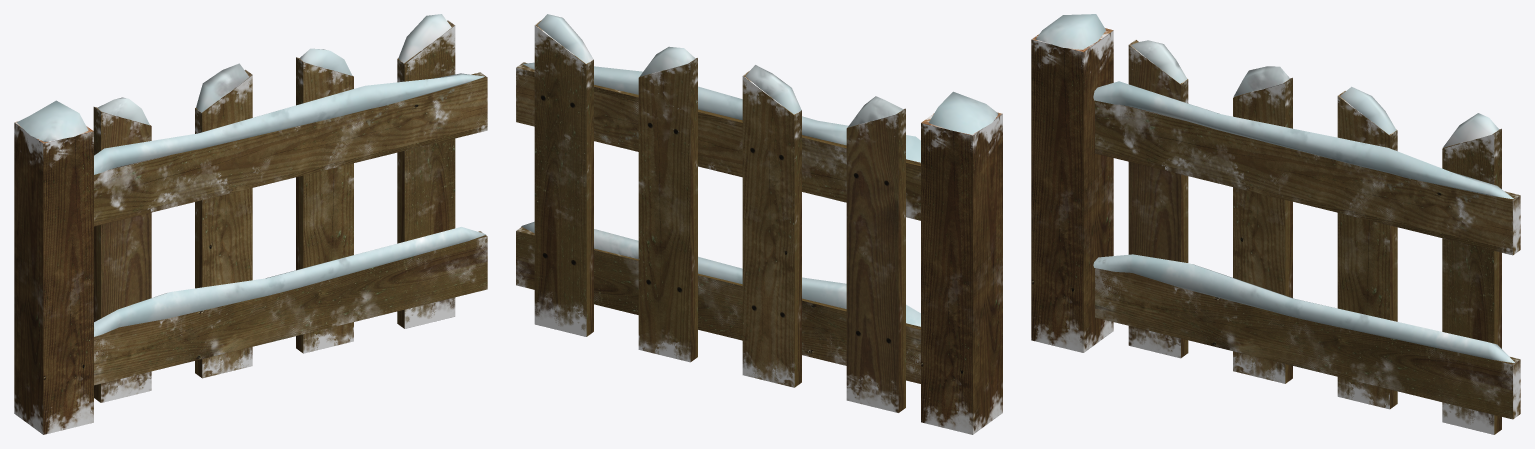
File: fence_single.FBX
3 renders of one model, left to right at view 1: azimuth 30°, elevation 25°; view 2: azimuth 150°, elevation 25°; view 3: azimuth 330°, elevation 25°, orthographic. The views are drawn at different scales.
Visible parts, largest first — view 1: fence_single; view 2: fence_single; view 3: fence_single.
Part boxes in pixels (bbox=[...]): fence_single: bbox=[14, 14, 487, 434]; fence_single: bbox=[516, 14, 1002, 434]; fence_single: bbox=[1031, 14, 1520, 434].
Size of the model in its own units: 181 by 116 by 20.42.
Materials: 1 (1 with a texture image).
